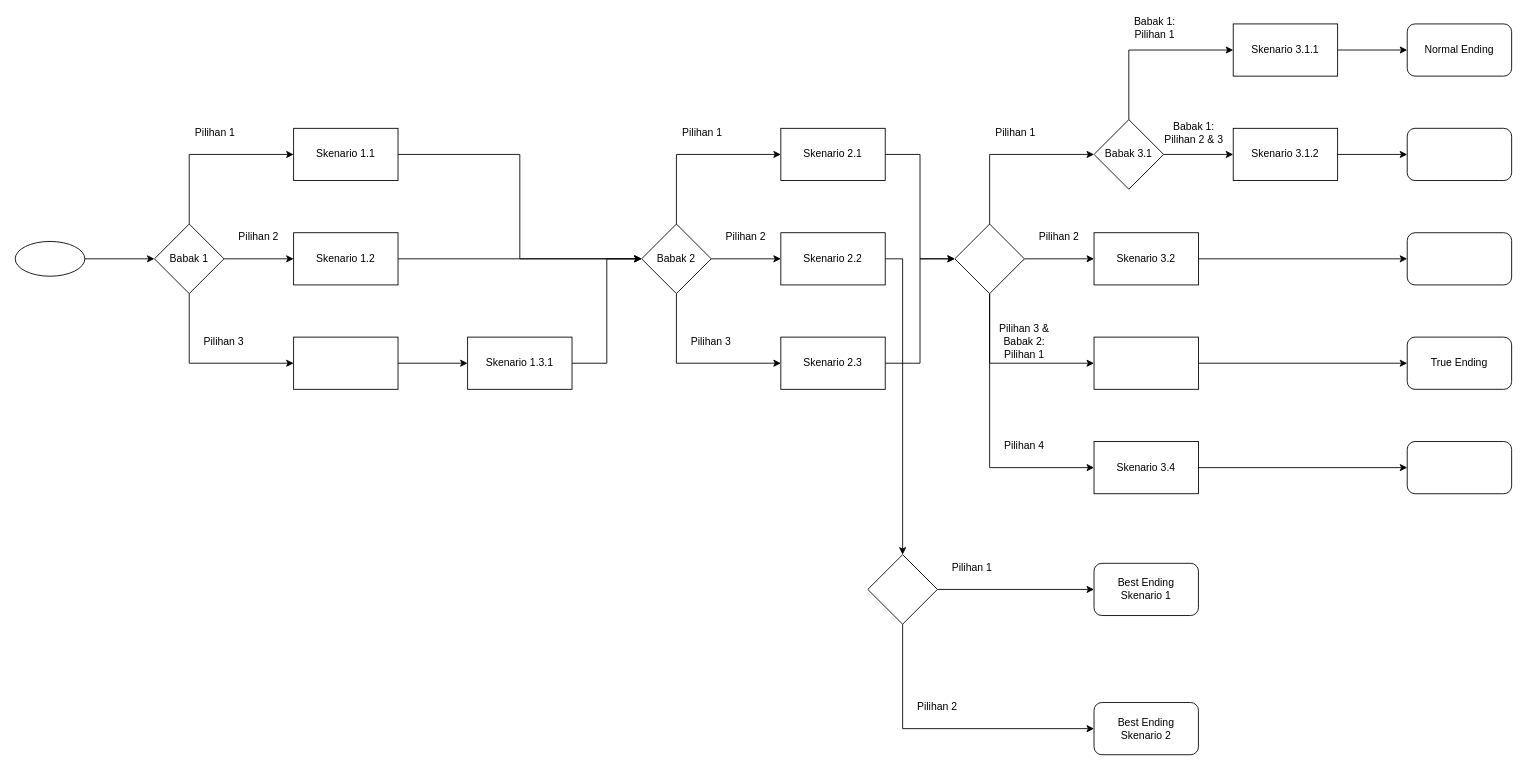
Image size: 1527x770. Some labels were removed from this diagram. The shapes that lost their labels are listed below. From the top down, each one's box as (x1, y1, x2, y2) in pixels, then its label:
(1406, 127, 1512, 181): Bad Ending
(14, 241, 85, 276): Start
(954, 223, 1024, 294): Babak 3
(1406, 232, 1512, 285): Tragic Ending
(293, 336, 398, 389): Skenario 1.3
(1093, 336, 1198, 389): Skenario 3.3
(1406, 441, 1512, 494): Secret Ending
(867, 554, 937, 624): Pilihan babak 1
